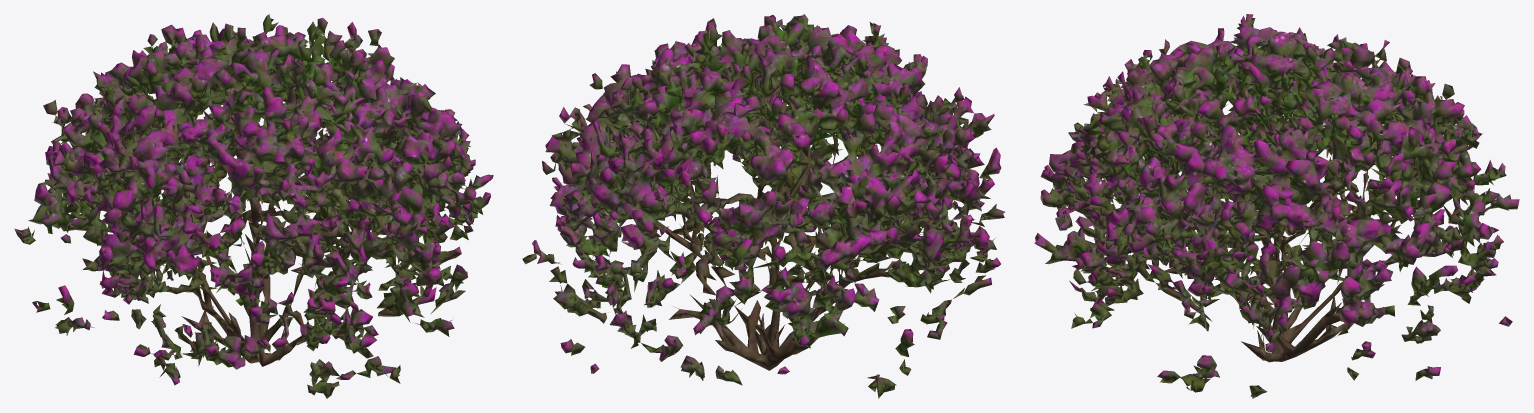
File: azalea.0.glb
The picture shows the model from 3 angles, left to right: view 1: azimuth 30°, elevation 25°; view 2: azimuth 150°, elevation 25°; view 3: azimuth 270°, elevation 25°; orthographic projection. The views are drawn at different scales.
Parts seen in each view (by area): view 1: geometry_0; view 2: geometry_0; view 3: geometry_0.
Boxes of the visible parts, x1,y1,x2,y2 form: geometry_0: [14, 14, 493, 398]; geometry_0: [522, 14, 1004, 398]; geometry_0: [1034, 14, 1519, 398].
Size of the model in its own units: 0.902 by 0.7063 by 0.977.
1 material, 1 textured.
